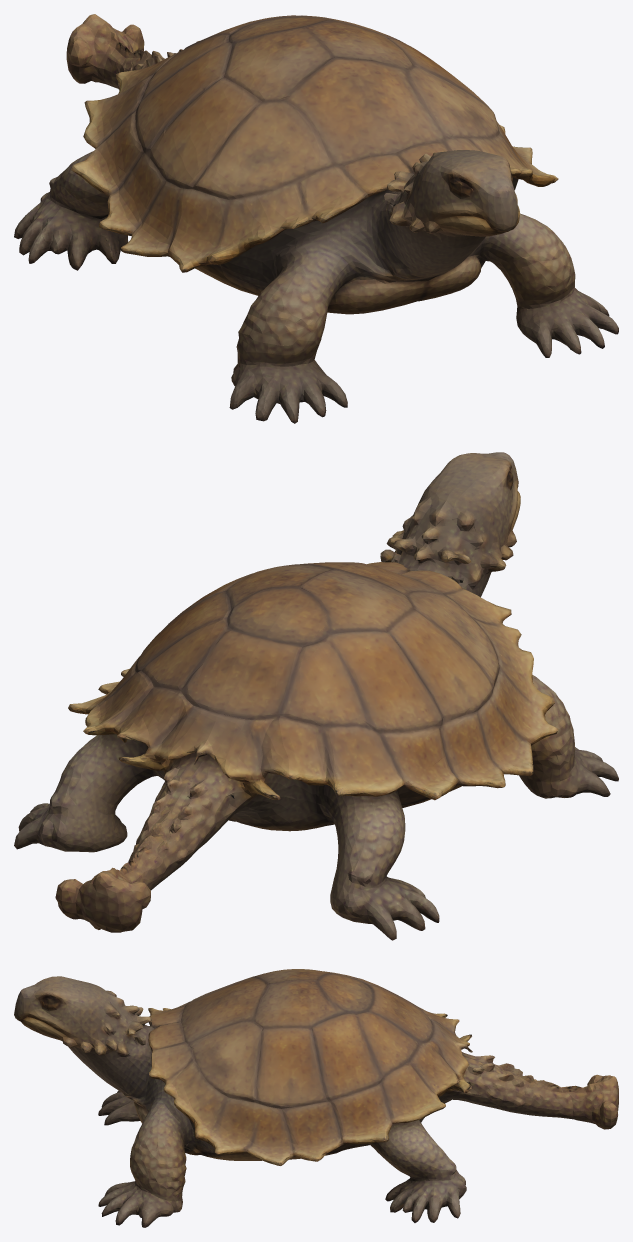
3 views of the same model, one above another, from view 1: azimuth 30°, elevation 25°; view 2: azimuth 150°, elevation 25°; view 3: azimuth 270°, elevation 25° (orthographic). The views are drawn at different scales.
Parts seen in each view (by area): view 1: world; view 2: world; view 3: world.
Part boxes in pixels (left/top/right/bottom): world: left=14, top=14, right=618, bottom=423; world: left=14, top=452, right=618, bottom=940; world: left=14, top=969, right=618, bottom=1227.
Bounding box in the file's own units: 0.5699 × 0.3336 × 0.9996.
Materials: 1 (1 with a texture image).
